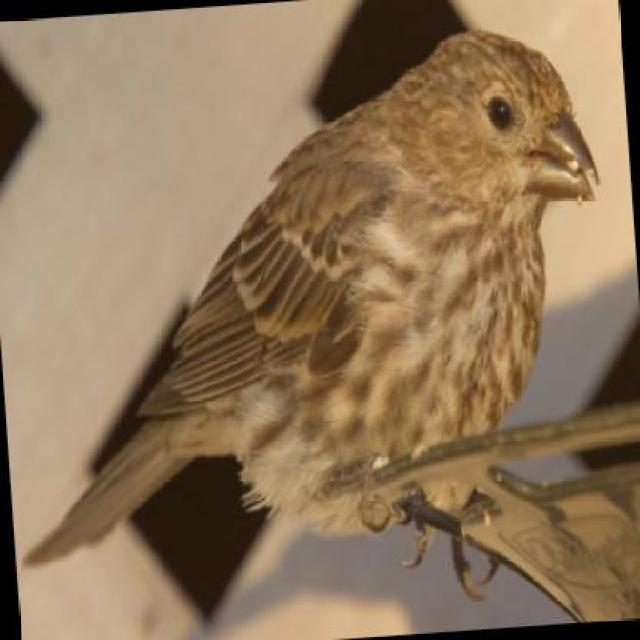Bird: (18, 29, 603, 604)
